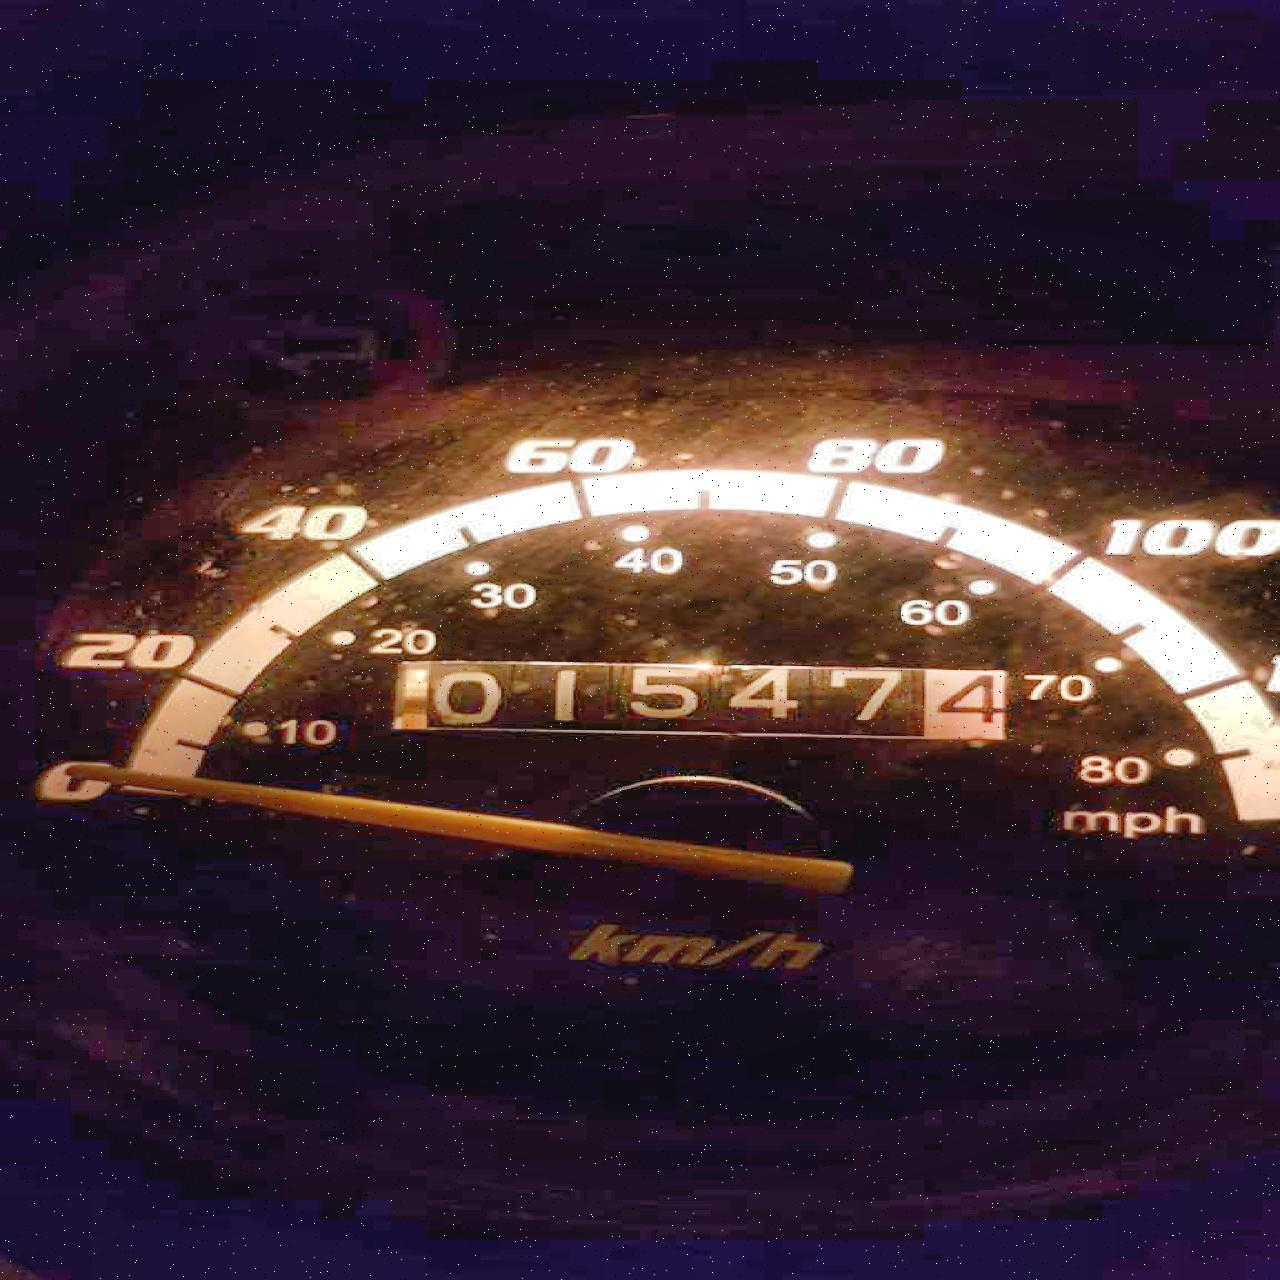0: (429, 667, 502, 724)
1: (543, 663, 585, 724)
4: (722, 666, 804, 719), (930, 670, 1007, 726)
5: (625, 663, 700, 721)
7: (822, 665, 907, 721)
odometer: (384, 653, 1015, 743)
